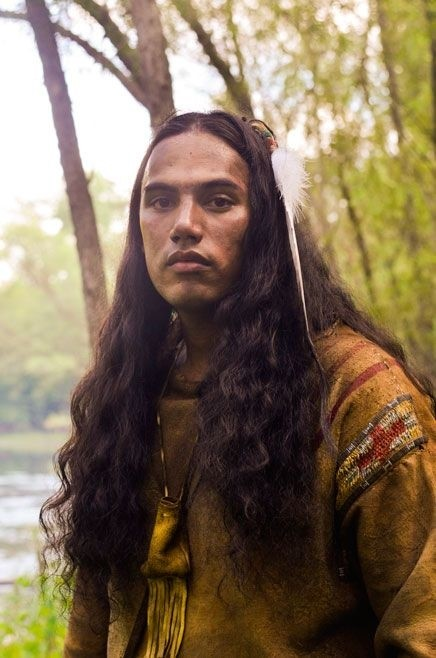face_no_mask: (135, 119, 272, 326)
